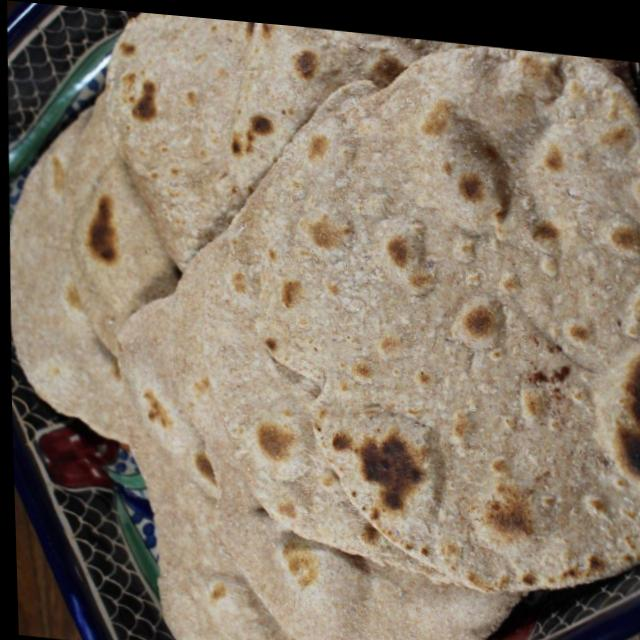CHAPATHI: (9, 12, 640, 640)
